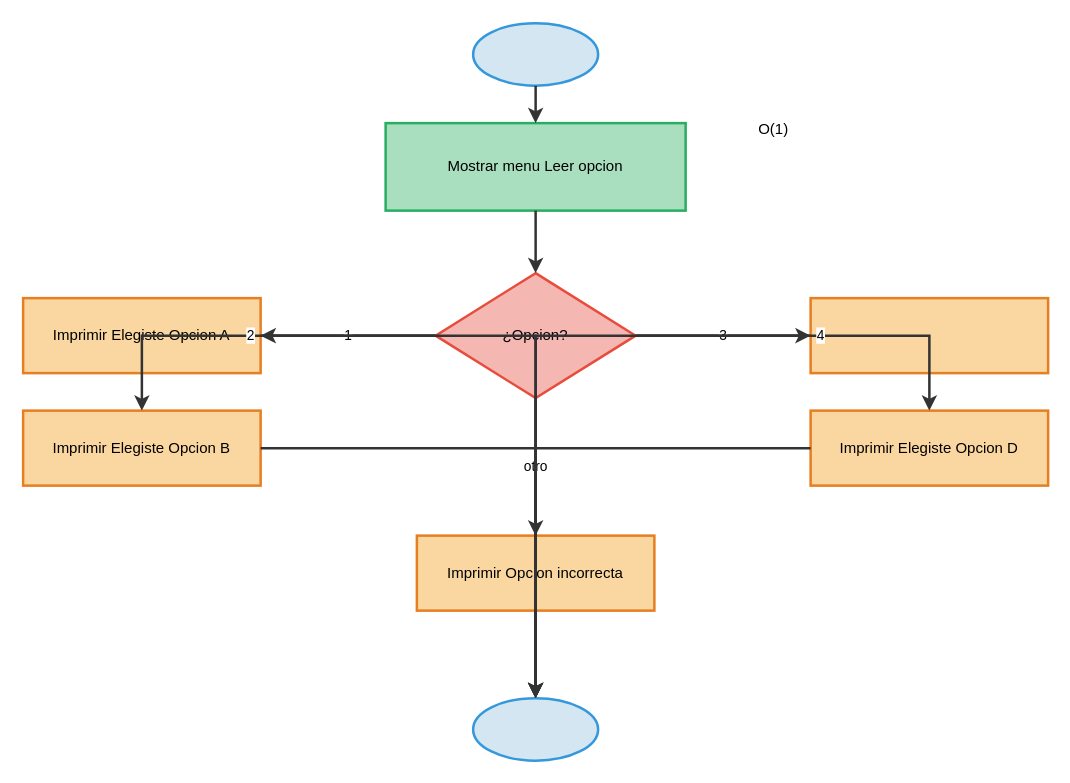
The diagram is 1070 pixels wide and 783 high, and some of its shapes have lost their labels. Here are the shapes that lost their labels. From the top down, the centre of each, then its label:
At [535,53]: "INICIO".
At [929,335]: "Imprimir Elegiste Opcion C".
At [535,728]: "FIN".
